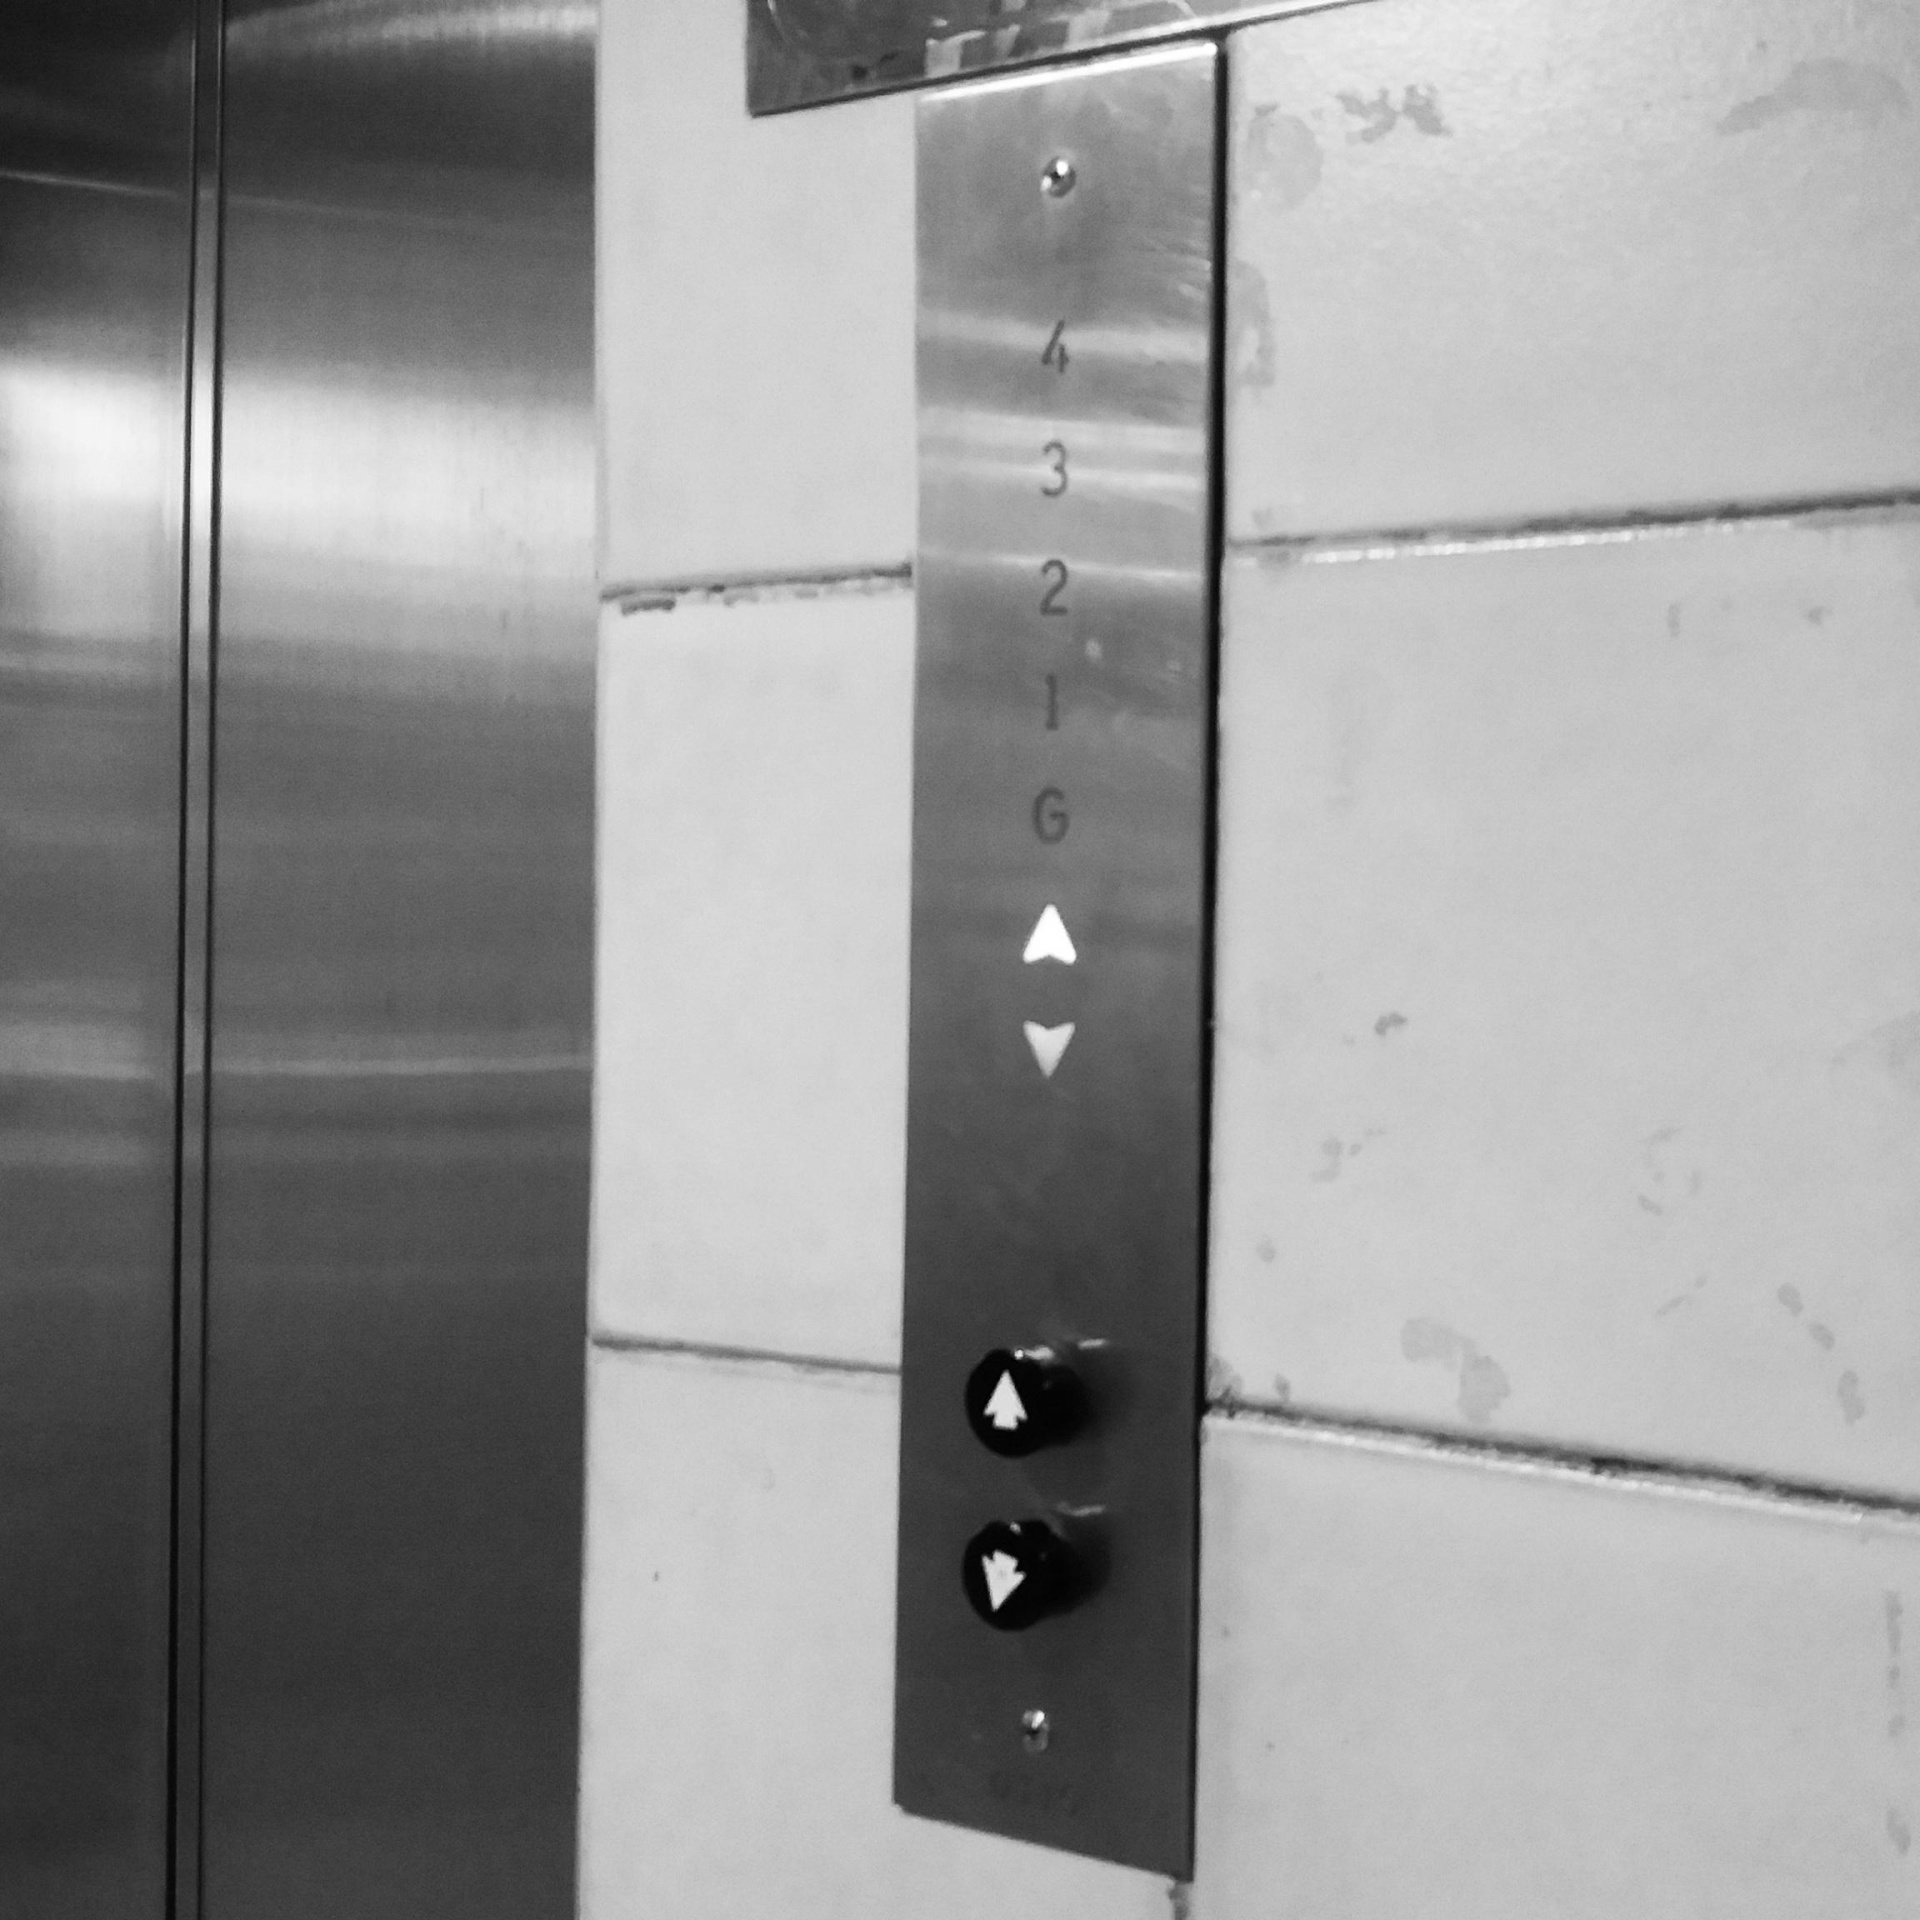down: (953, 1505, 1099, 1649)
up: (942, 1331, 1088, 1475)
